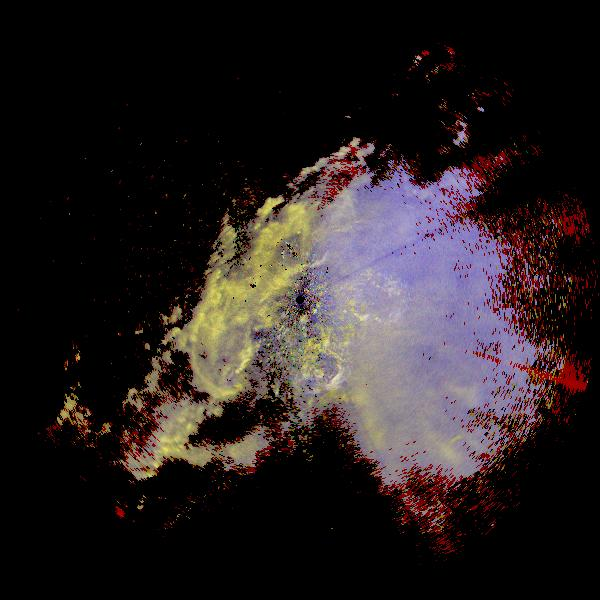roost: (441, 430, 483, 472)
